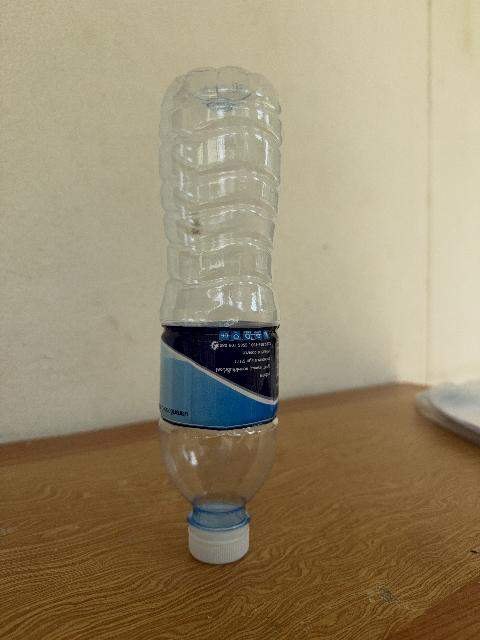bottle: (159, 67, 280, 563)
